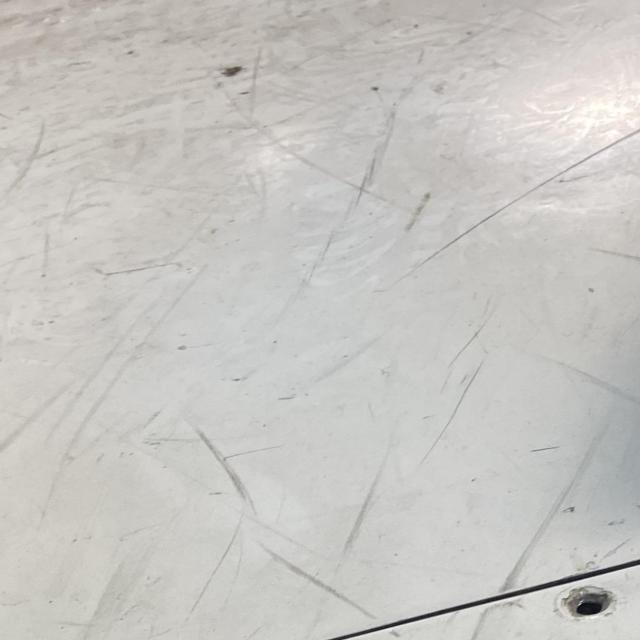Missing-head: (561, 583, 615, 617)
